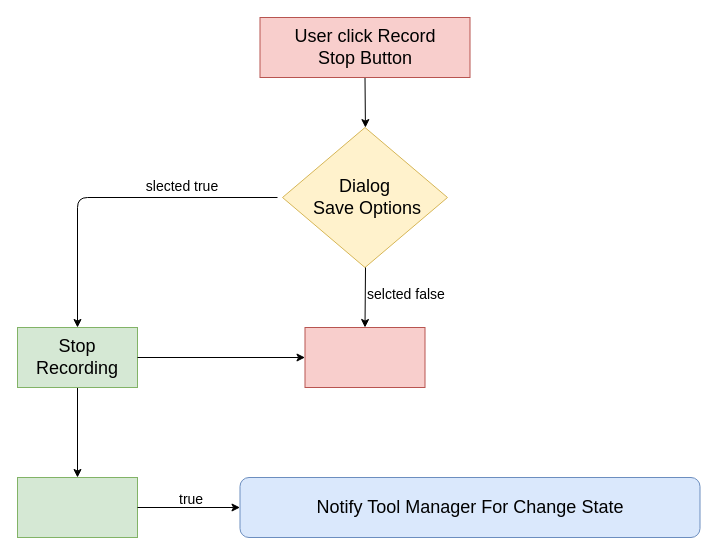
Some shapes in this 718 by 555 pixel diagram are drawn without their labels. The box of each missing label's shape, as (x1, y1, x2, y2) in pixels:
Dismiss Dialog: (304, 326, 425, 388)
No Recording ?: (16, 476, 138, 538)
